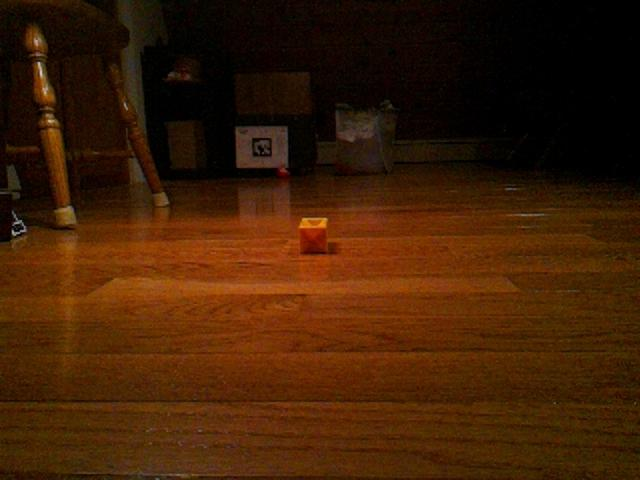yellow: (298, 216, 329, 255)
